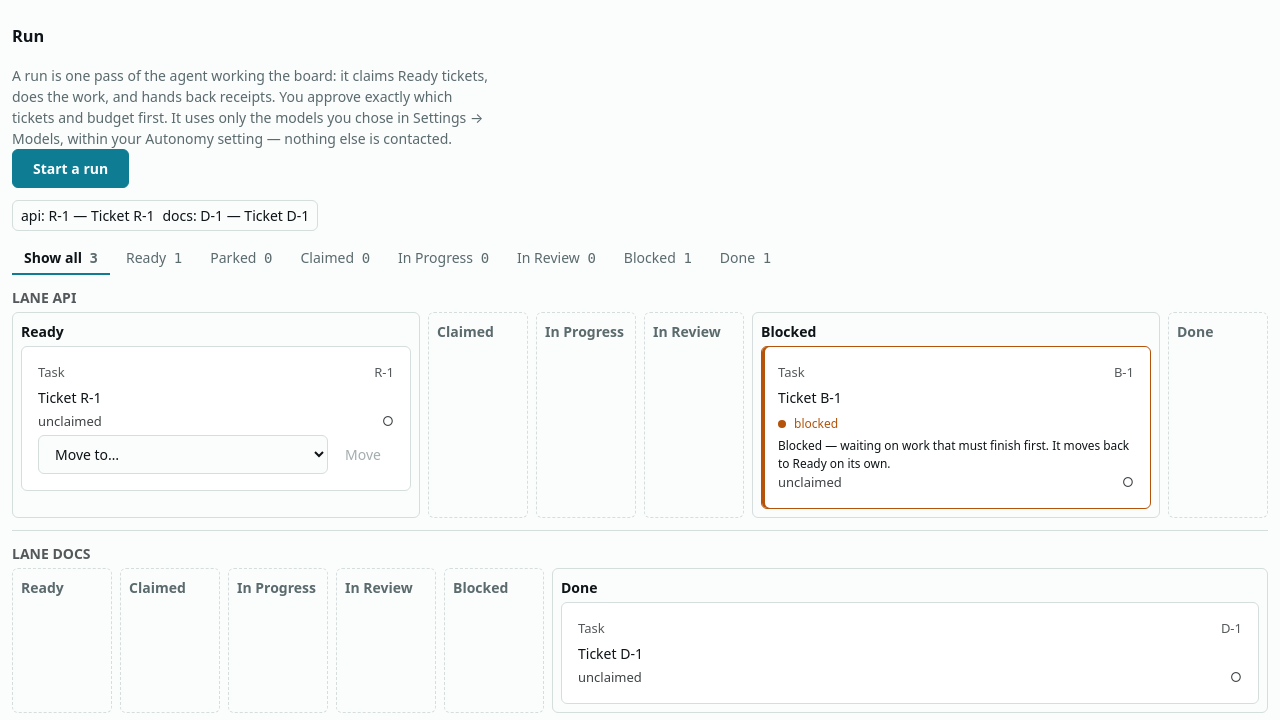
board status filter › filters cards across lanes, keeps columns, drops lanes with nothing to show
What coordinates should you click on to do the following:
click the button with test id "board-filter-blocked"
I would click on:
 (658, 259)
Its box is [612,243,704,275].
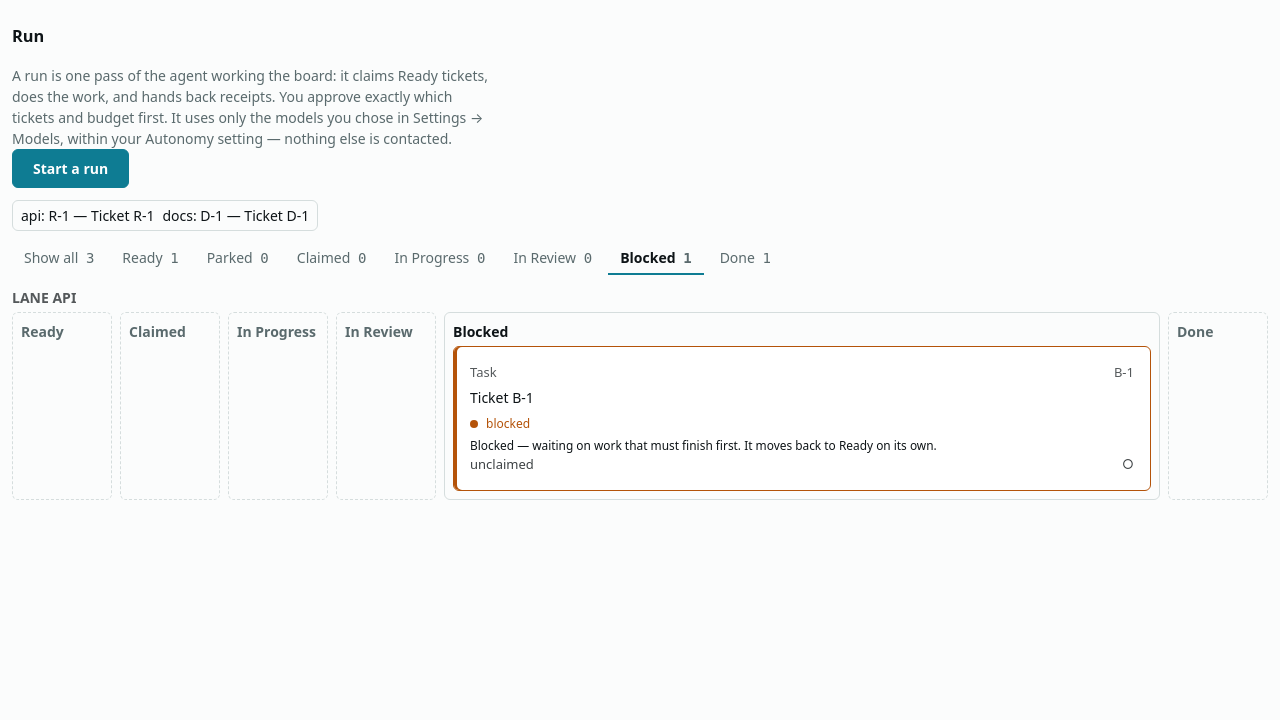
Expected: the button "Ticket B-1" is shown, [470,387,534,408]
Expected: the element with test id "lane-docs" is gone
